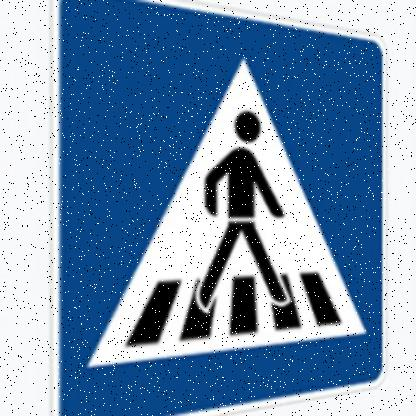Pedestrian Crossing: (51, 1, 389, 416)
